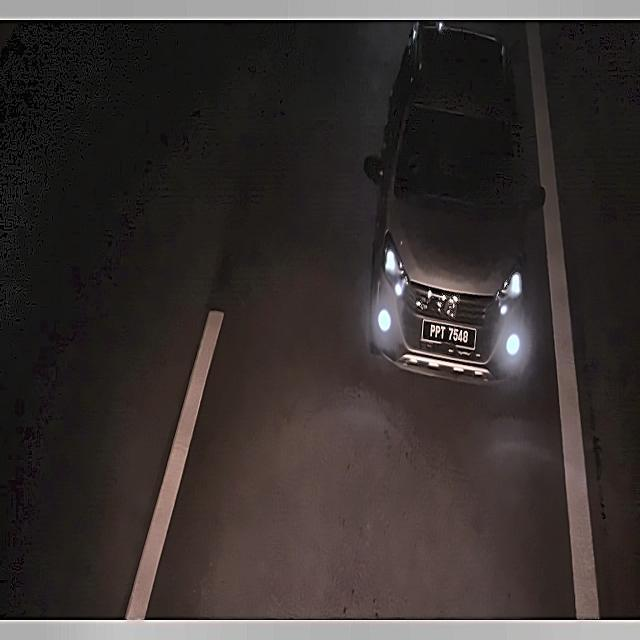car: (423, 317, 474, 353)
